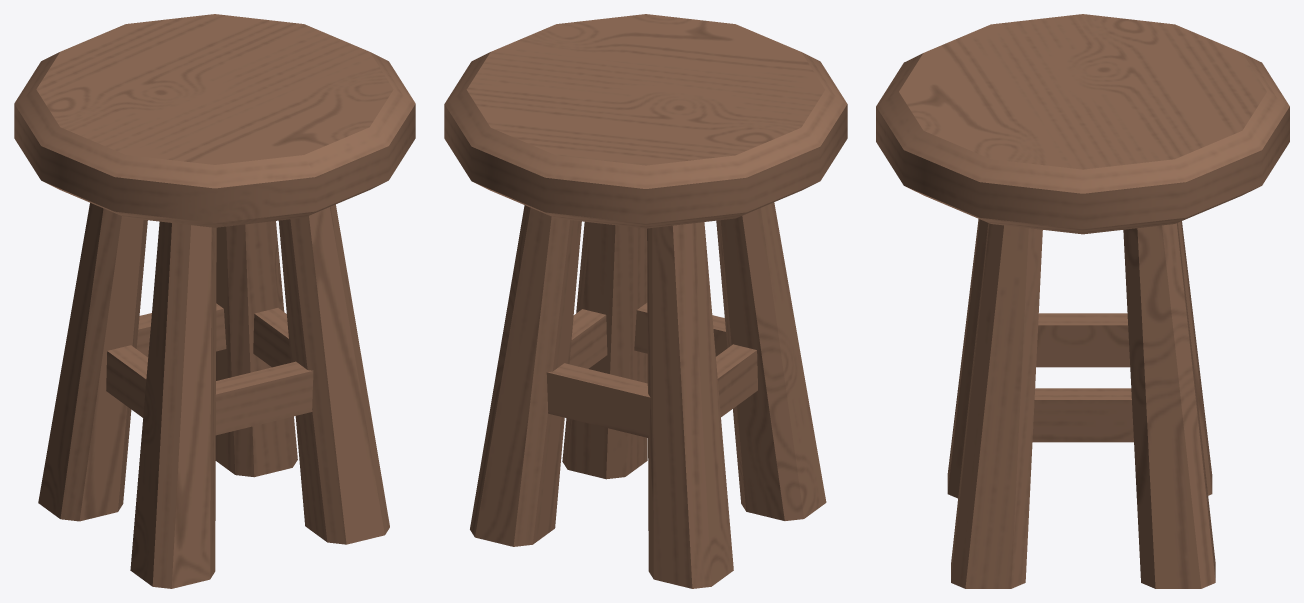
The model's file is Stool.fbx.
3 views of the same model, side by side, from view 1: azimuth 30°, elevation 25°; view 2: azimuth 150°, elevation 25°; view 3: azimuth 270°, elevation 25° (orthographic). The views are drawn at different scales.
Visible parts, largest first — view 1: Stool; view 2: Stool; view 3: Stool.
Boxes of the visible parts, x1=… form: Stool: x1=14, y1=14, x2=415, y2=588; Stool: x1=444, y1=14, x2=847, y2=588; Stool: x1=876, y1=14, x2=1289, y2=588.
Size of the model in its own units: 10.97 by 12.8 by 10.97.
